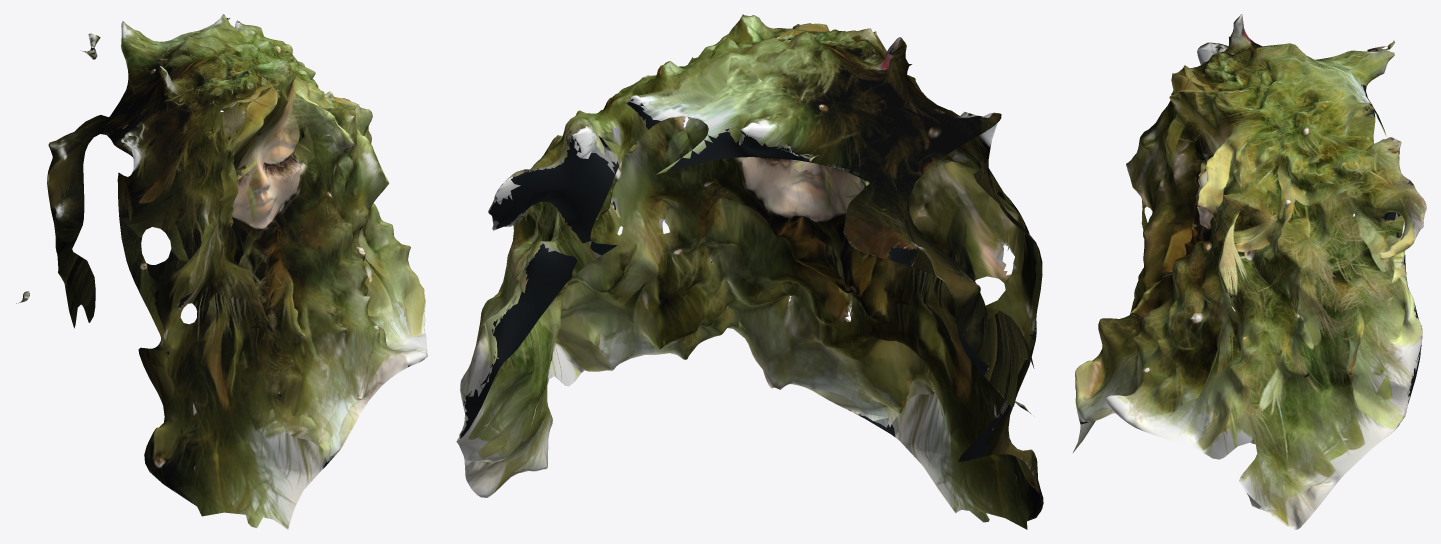
File: greenLady.obj
3 views of the same model, side by side, from view 1: azimuth 30°, elevation 25°; view 2: azimuth 150°, elevation 25°; view 3: azimuth 270°, elevation 25° (orthographic). The views are drawn at different scales.
Bounding box in the file's own units: 19.12 × 18.97 × 14.57.
2 materials, 2 textured.
